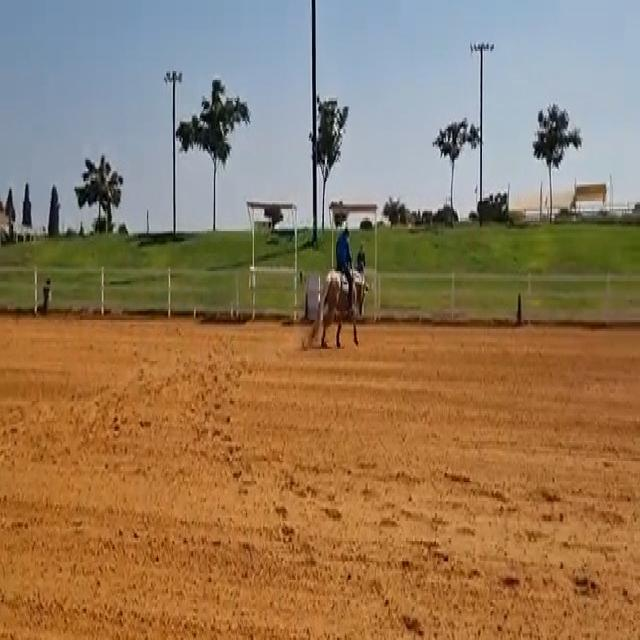horse: (309, 262, 370, 351)
